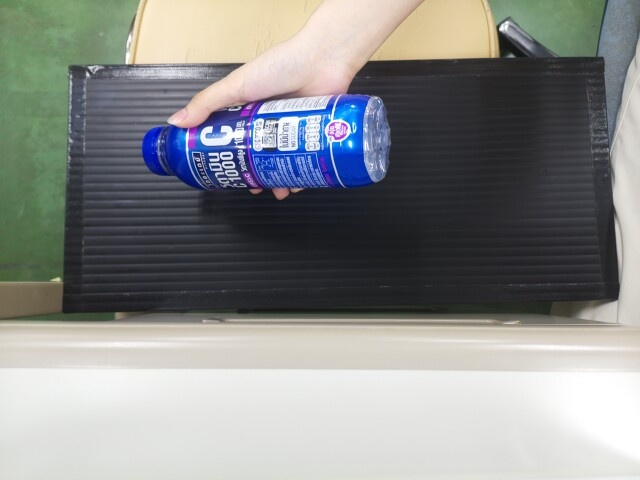plastic_bottle: (140, 106, 389, 188)
